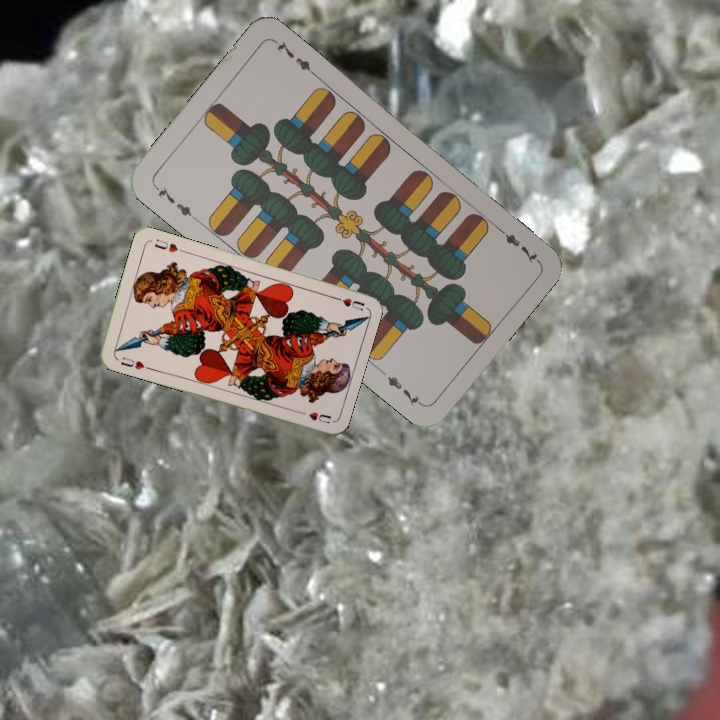E7: (491, 222, 541, 266), (150, 181, 195, 219)
HU: (328, 292, 367, 313), (117, 353, 147, 372)
